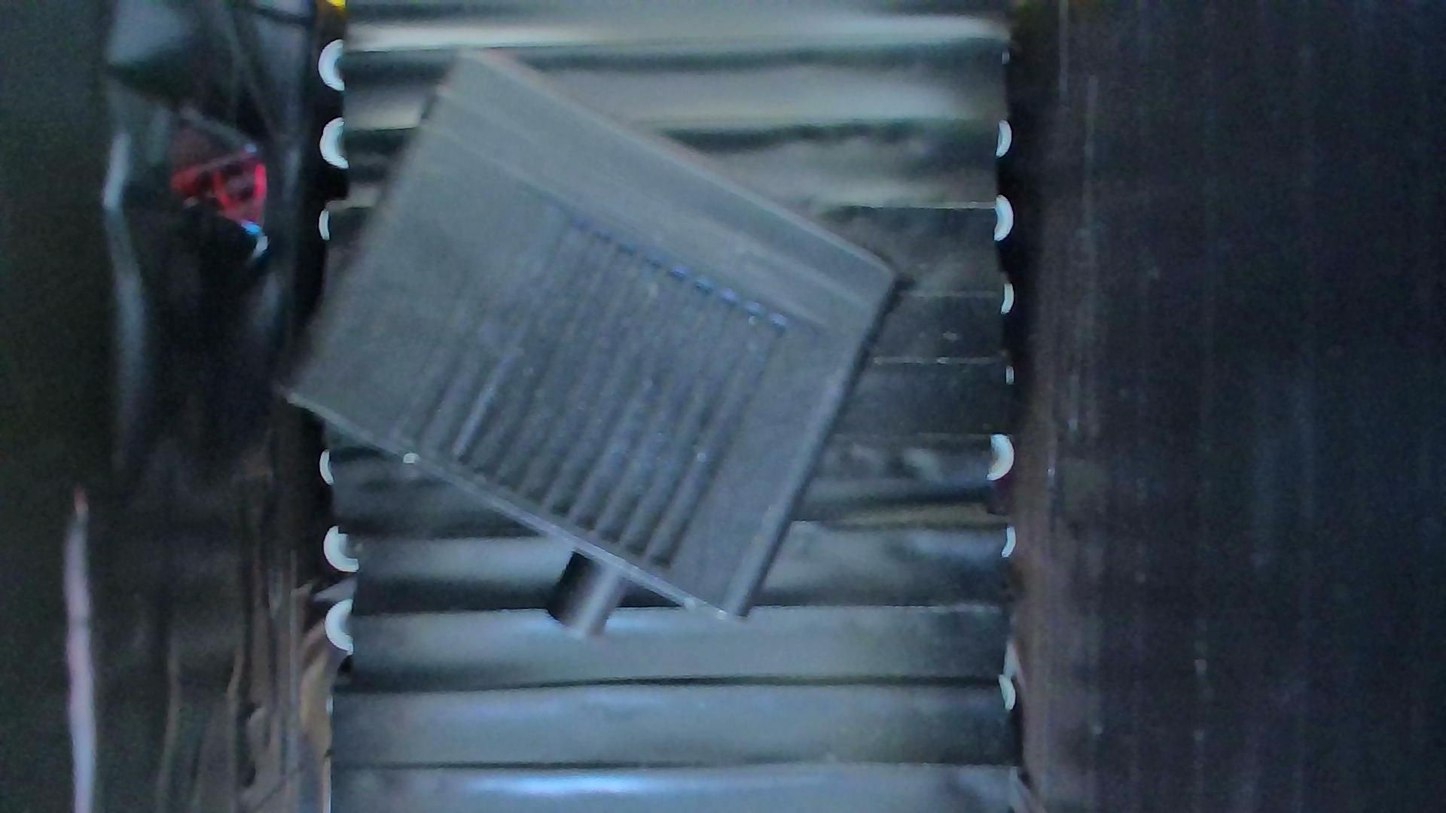motor: (273, 50, 902, 643)
